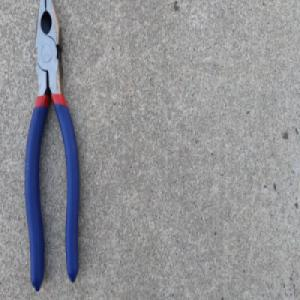Pliers: (22, 0, 81, 292)
